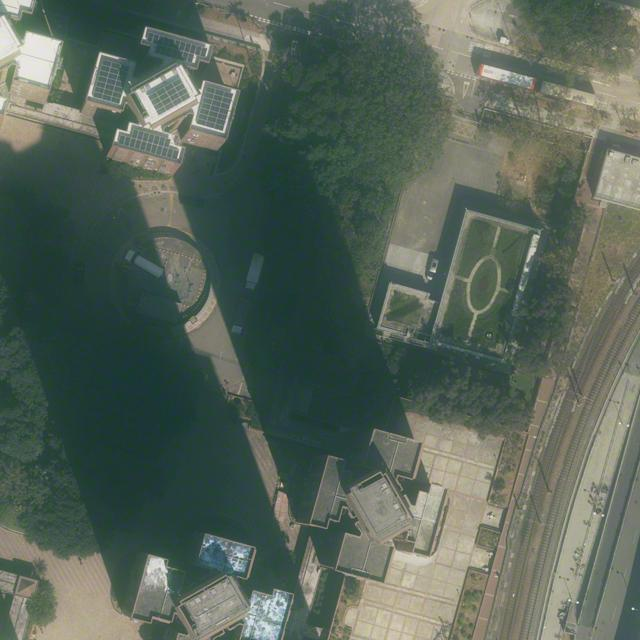panel: (93, 59, 130, 104), (197, 87, 234, 131), (147, 32, 208, 58), (119, 135, 179, 160), (149, 79, 190, 115), (154, 44, 195, 64), (132, 129, 171, 148)
